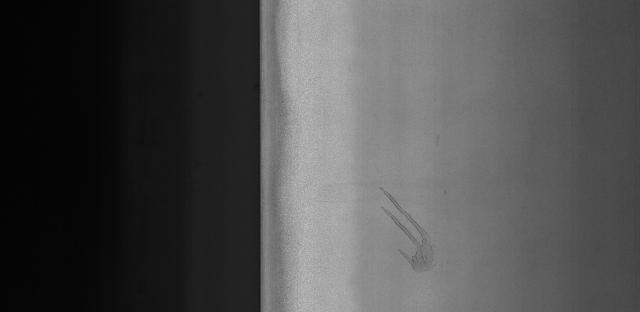water_spot: (373, 183, 448, 281)
